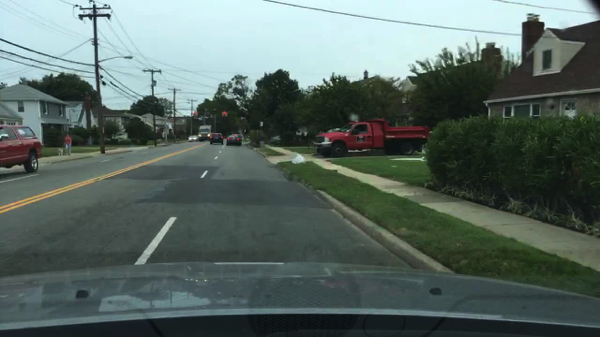car: (0, 125, 43, 173), (226, 134, 243, 147), (209, 133, 224, 145), (188, 135, 199, 143)
person: (63, 133, 72, 155)
traffic light: (193, 111, 198, 116), (221, 112, 225, 117), (225, 112, 228, 117)
traffic sign: (259, 121, 264, 127)
truck: (312, 118, 430, 158), (198, 125, 212, 142)
